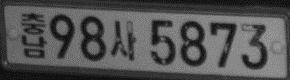3: (240, 22, 268, 70)
5: (149, 18, 176, 66)
7: (208, 21, 237, 68)
8: (178, 19, 207, 67), (79, 16, 106, 62)
9: (49, 13, 76, 59)
사: (109, 20, 137, 61)
충남_V: (19, 11, 46, 58)
